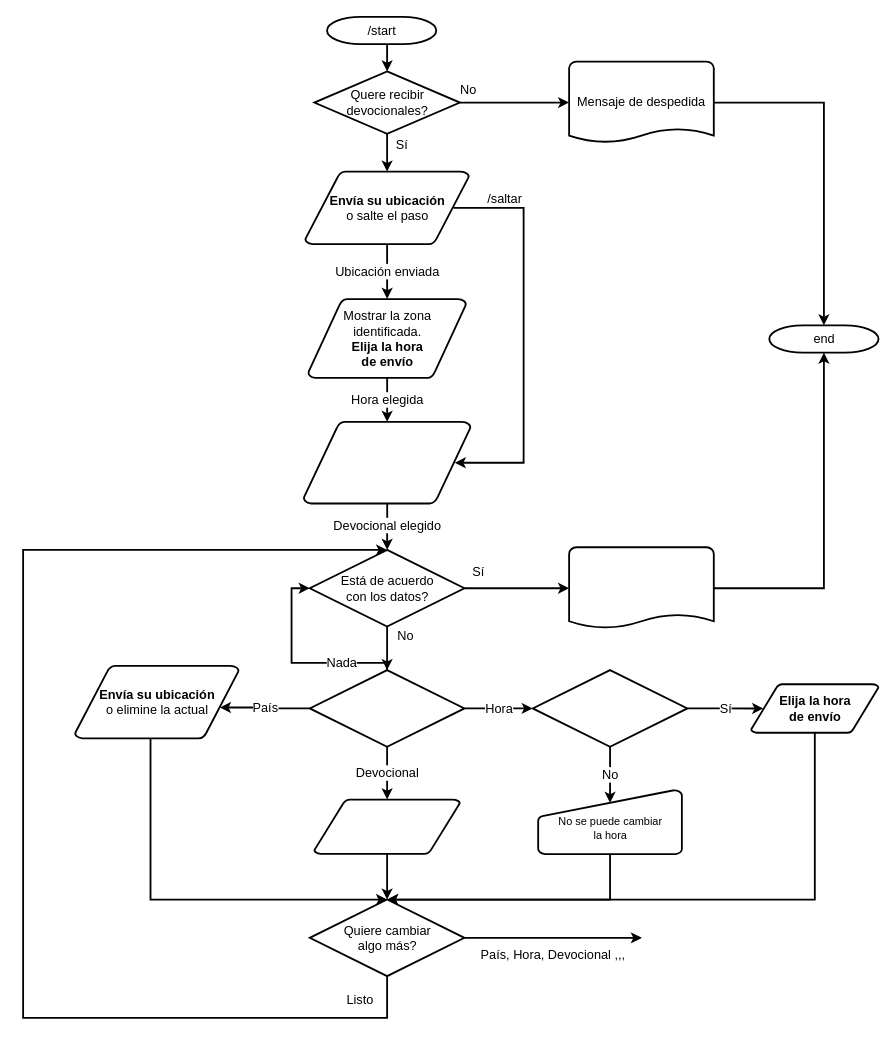
Image size: 895x1041. Some labels were removed from this diagram. Here are the shapes that lost their labels. From the top down, the box of each, then its label:
(302, 420, 471, 504): Mostrar el estado. Elija el devocional
(568, 546, 714, 630): Mensaje de información. Lista de comandos
(308, 669, 465, 747): Qué quiere cambiar?
(531, 669, 688, 747): Había enviado la ubicación?
(313, 798, 460, 854): Elija el devocional
